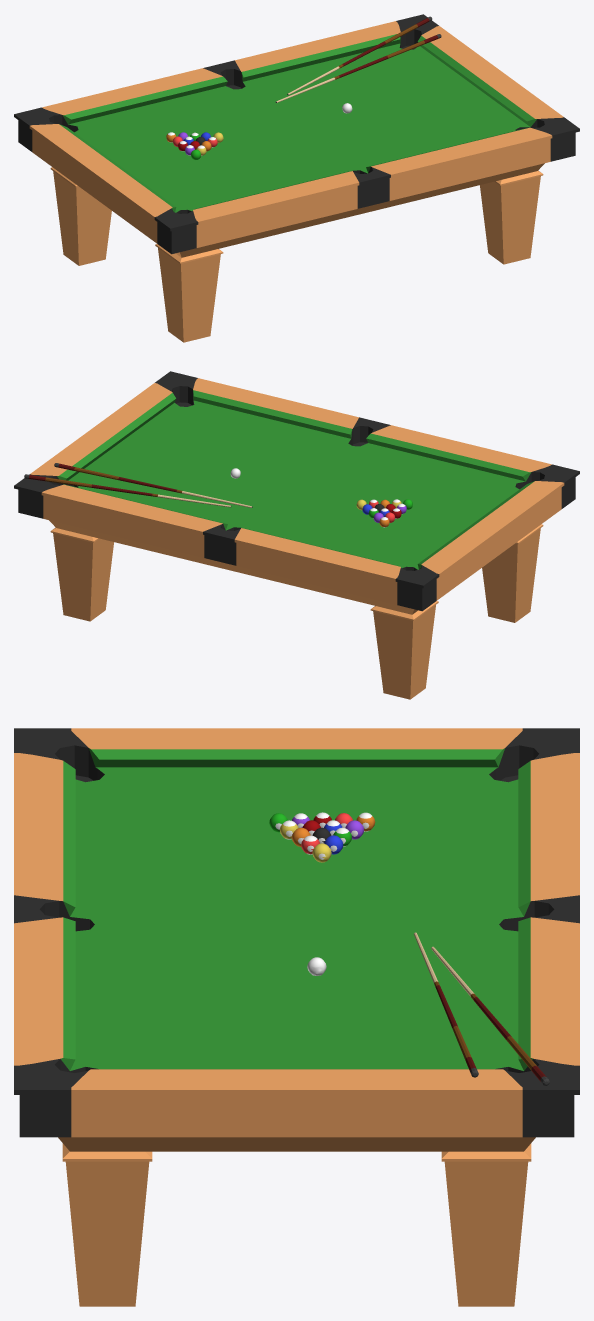
The model's file is pooltable.fbx.
3 views of the same model, one above another, from view 1: azimuth 30°, elevation 25°; view 2: azimuth 150°, elevation 25°; view 3: azimuth 270°, elevation 25° (orthographic). The views are drawn at different scales.
Parts seen in each view (by area): view 1: PoolTable, all_balls, PoolStick2, PoolStick1; view 2: PoolTable, all_balls, PoolStick1, PoolStick2; view 3: PoolTable, all_balls, PoolStick1, PoolStick2.
Boxes of the visible parts, box(x1,y1,x2,y2) form: PoolTable: box(14, 14, 579, 342); all_balls: box(166, 132, 223, 159); PoolStick2: box(275, 34, 441, 102); PoolStick1: box(287, 16, 432, 95); PoolTable: box(14, 371, 579, 699); all_balls: box(356, 499, 412, 527); PoolStick1: box(24, 474, 231, 507); PoolStick2: box(54, 463, 252, 507); PoolTable: box(14, 728, 579, 1306); all_balls: box(269, 812, 375, 862); PoolStick1: box(431, 946, 549, 1085); PoolStick2: box(414, 932, 478, 1077).
Bounding box in the file's own units: 1529 × 500 × 1012.
